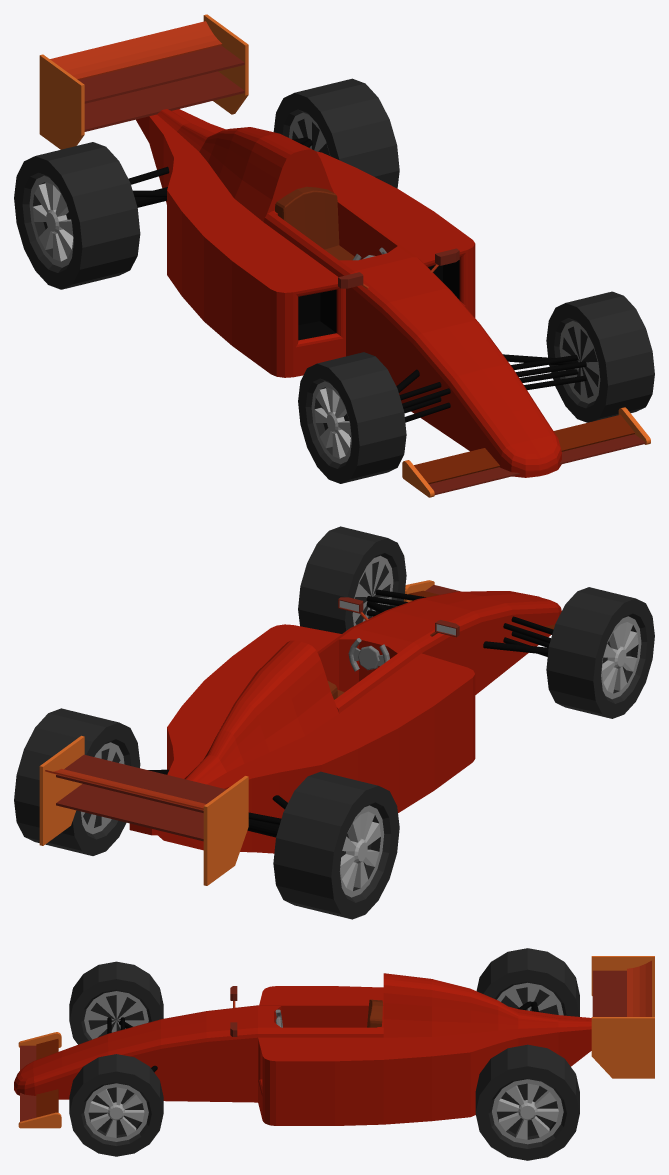
Rendered from lowpoly_f1_car.glb.
3 views of the same model, one above another, from view 1: azimuth 30°, elevation 25°; view 2: azimuth 150°, elevation 25°; view 3: azimuth 270°, elevation 25° (orthographic). The views are drawn at different scales.
Visible parts, largest first — view 1: Object_2; view 2: Object_2; view 3: Object_2.
Part boxes in pixels (x1,y1,x2,y2): Object_2: (14,14,654,497); Object_2: (14,526,654,919); Object_2: (14,948,654,1160).
Size of the model in its own units: 2.74 by 1.36 by 6.29.
1 material, 1 textured.
